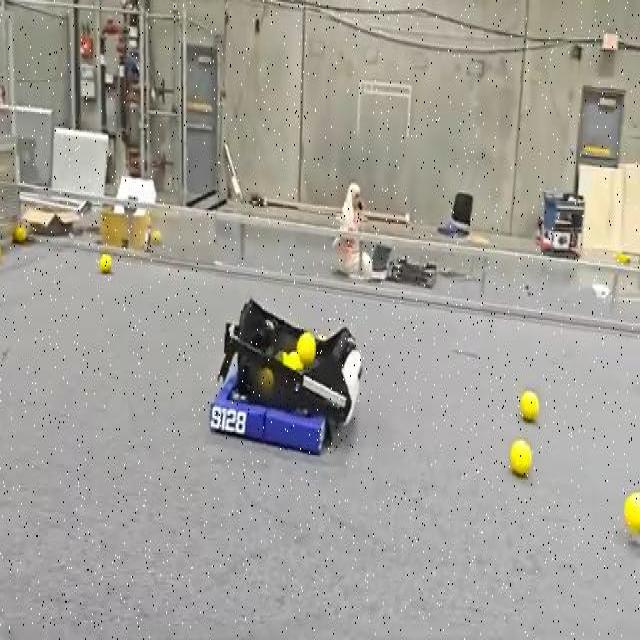Fuel: (510, 439, 532, 477), (510, 439, 532, 476), (296, 332, 316, 368), (623, 490, 640, 530), (296, 331, 315, 366), (520, 389, 539, 422), (624, 492, 639, 532), (520, 390, 539, 420), (256, 366, 274, 394), (284, 350, 303, 370), (285, 352, 303, 372), (99, 254, 112, 274), (13, 224, 26, 242), (14, 224, 26, 243), (99, 254, 111, 272), (274, 350, 287, 366), (151, 229, 161, 244)
